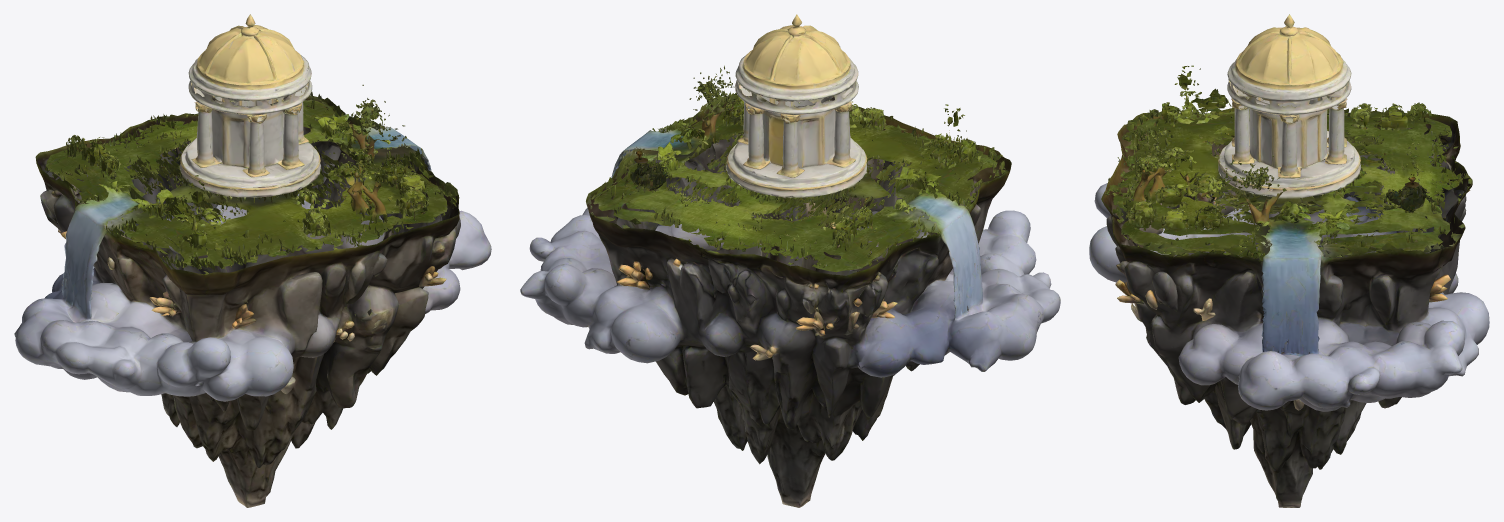
The model's file is skyisland.glb.
3 renders of one model, left to right at view 1: azimuth 30°, elevation 25°; view 2: azimuth 150°, elevation 25°; view 3: azimuth 270°, elevation 25°, orthographic.
Parts seen in each view (by area): view 1: geometry_0; view 2: geometry_0; view 3: geometry_0.
Boxes of the visible parts, box(x1,y1,x2,y2) form: geometry_0: box(14, 14, 491, 507); geometry_0: box(520, 14, 1060, 507); geometry_0: box(1089, 14, 1489, 507).
Size of the model in its own units: 0.9852 by 0.9933 by 0.7359.
1 material, 1 textured.
